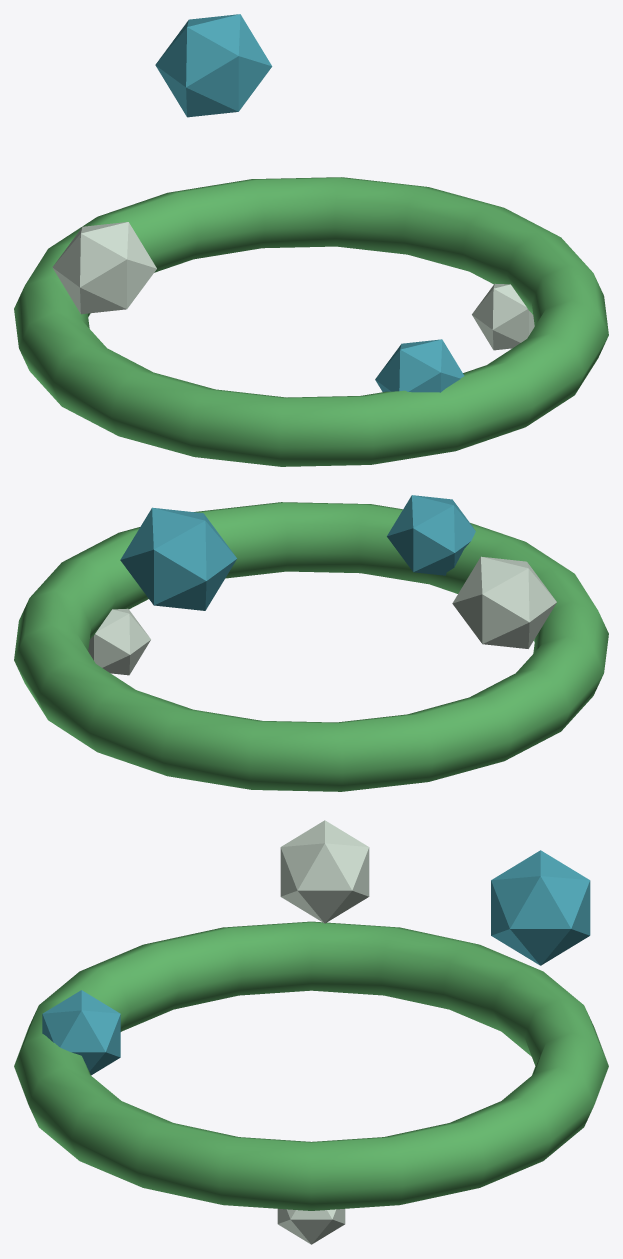
Rendered from grimoire.glb.
3 views of the same model, one above another, from view 1: azimuth 30°, elevation 25°; view 2: azimuth 150°, elevation 25°; view 3: azimuth 270°, elevation 25° (orthographic).
Visible parts, largest first — view 1: grimoire_trail, grimoire_spark_3, grimoire_spark_2, grimoire_spark_1, grimoire_spark_0; view 2: grimoire_trail, grimoire_spark_3, grimoire_spark_2, grimoire_spark_1, grimoire_spark_0; view 3: grimoire_trail, grimoire_spark_3, grimoire_spark_2, grimoire_spark_1, grimoire_spark_0.
Boxes of the visible parts, left/top/right/bottom form: grimoire_trail: left=14, top=177, right=608, bottom=466; grimoire_spark_3: left=155, top=14, right=272, bottom=117; grimoire_spark_2: left=52, top=222, right=156, bottom=314; grimoire_spark_1: left=375, top=339, right=464, bottom=392; grimoire_spark_0: left=472, top=283, right=534, bottom=350; grimoire_trail: left=14, top=502, right=608, bottom=791; grimoire_spark_3: left=120, top=507, right=237, bottom=610; grimoire_spark_2: left=452, top=556, right=556, bottom=648; grimoire_spark_1: left=387, top=495, right=475, bottom=575; grimoire_spark_0: left=88, top=608, right=150, bottom=675; grimoire_trail: left=14, top=921, right=608, bottom=1210; grimoire_spark_3: left=491, top=850, right=590, bottom=965; grimoire_spark_2: left=280, top=820, right=369, bottom=923; grimoire_spark_1: left=42, top=990, right=120, bottom=1075; grimoire_spark_0: left=277, top=1209, right=345, bottom=1244.
Size of what is drawn, in the model's own units: 1.94 by 1.02 by 1.94.
